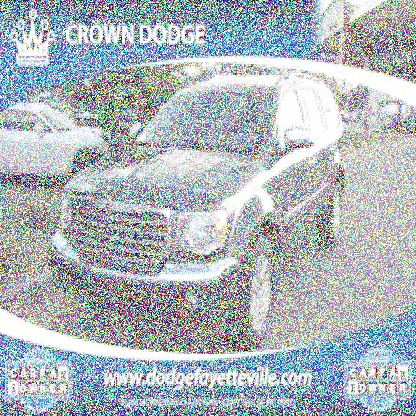Vehicle: (52, 75, 348, 341)
